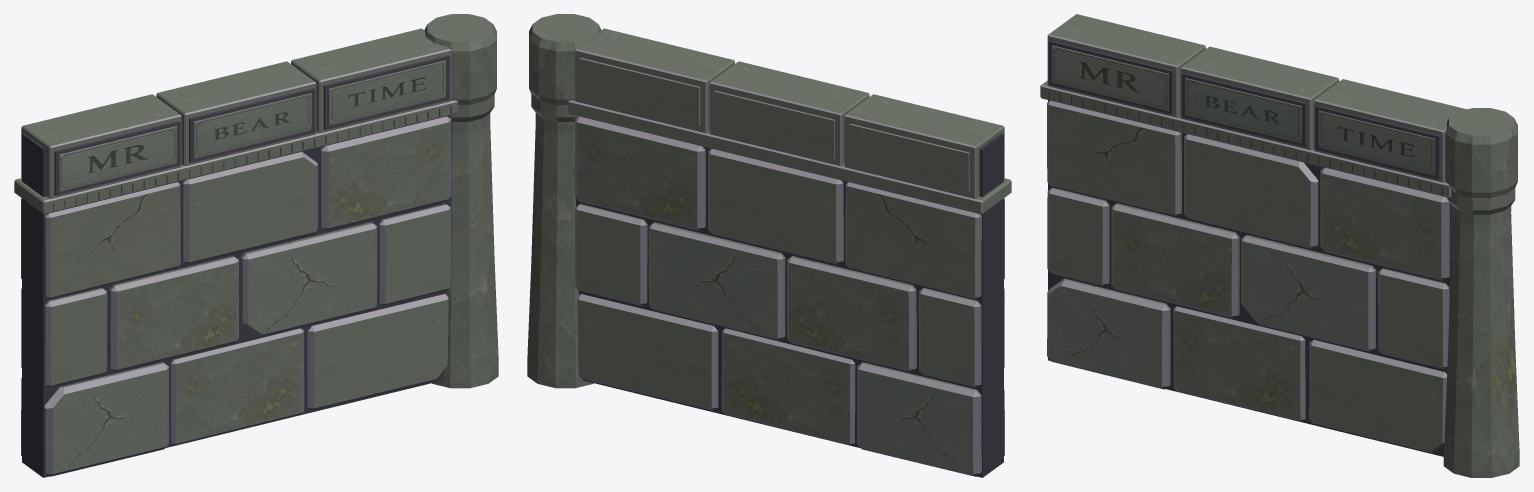
File: FIX_Wall002_R_Pillar.fbx
3 renders of one model, left to right at view 1: azimuth 30°, elevation 25°; view 2: azimuth 150°, elevation 25°; view 3: azimuth 330°, elevation 25°, orthographic.
Parts seen in each view (by area): view 1: polySurface3; view 2: polySurface3; view 3: polySurface3.
Boxes of the visible parts, x1,y1,x2,y2 form: polySurface3: (14, 14, 498, 477); polySurface3: (527, 14, 1011, 477); polySurface3: (1040, 14, 1519, 477).
Size of the model in its own units: 311 by 220 by 44.43.
Materials: 15 (10 with a texture image).
